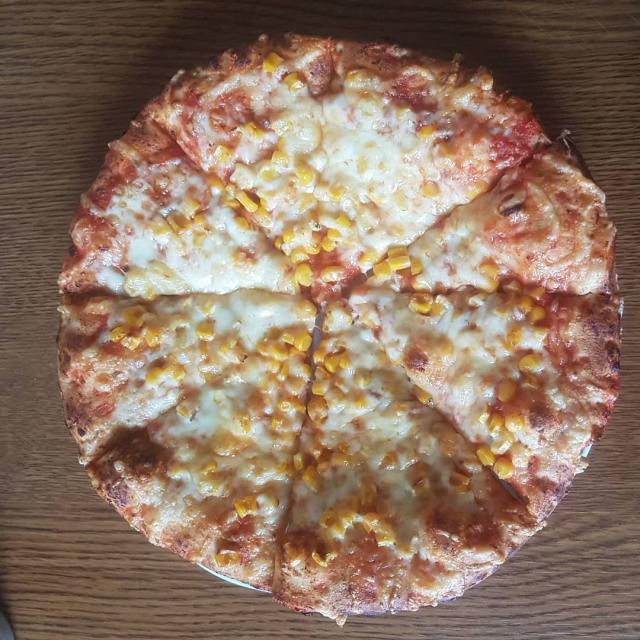pizza: (59, 35, 621, 621)
